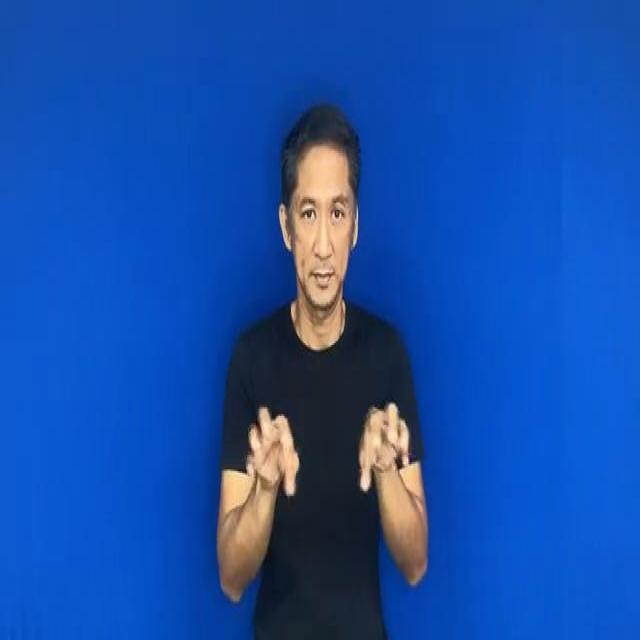egg: (228, 392, 416, 508)
